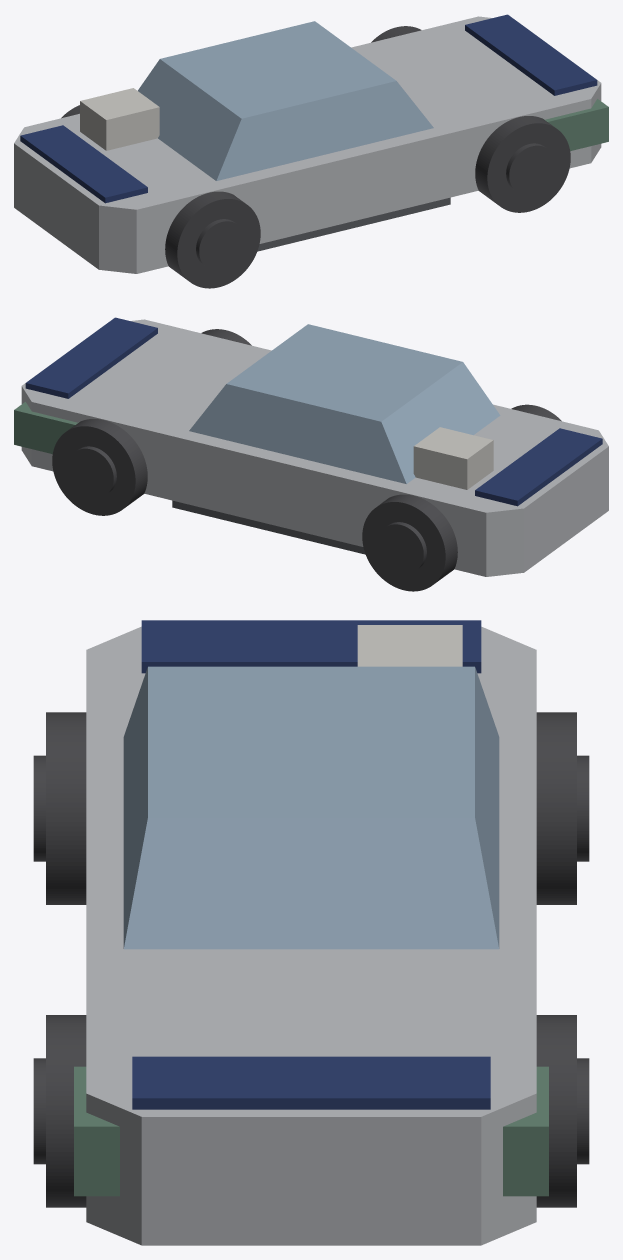
3 views of the same model, one above another, from view 1: azimuth 30°, elevation 25°; view 2: azimuth 150°, elevation 25°; view 3: azimuth 270°, elevation 25° (orthographic). The views are drawn at different scales.
Visible parts, largest first — view 1: chassis, cabin, wheel_rr, wheel_fr, solar_hood, solar_deck, module_01, sensor_module, battery_pack; view 2: chassis, cabin, wheel_rl, wheel_fl, solar_hood, solar_deck, module_01, control_module, battery_pack; view 3: chassis, cabin, solar_hood, solar_deck, wheel_rl, wheel_rr, wheel_fl, wheel_fr, module_01, control_module, sensor_module.
Part boxes in pixels (x1,y1,x2,y2): chassis: (14, 16, 601, 273); cabin: (138, 21, 433, 180); wheel_rr: (165, 191, 260, 288); wheel_fr: (475, 116, 570, 212); solar_hood: (465, 14, 597, 95); solar_deck: (20, 125, 147, 203); module_01: (80, 88, 159, 150); sensor_module: (543, 99, 608, 150); battery_pack: (257, 197, 450, 251); chassis: (21, 319, 608, 576); cabin: (189, 324, 500, 483); wheel_rl: (362, 494, 457, 591); wheel_fl: (52, 419, 147, 515); solar_hood: (25, 317, 157, 398); solar_deck: (475, 428, 602, 506); module_01: (413, 427, 493, 489); control_module: (14, 402, 79, 453); battery_pack: (172, 500, 365, 554); chassis: (86, 626, 536, 1245); cabin: (123, 666, 499, 949); solar_hood: (132, 1056, 490, 1109); solar_deck: (141, 620, 481, 673); wheel_rl: (536, 712, 589, 904); wheel_rr: (33, 712, 86, 904); wheel_fl: (536, 1015, 589, 1207); wheel_fr: (33, 1015, 86, 1207); module_01: (357, 625, 462, 666); control_module: (503, 1066, 548, 1196); sensor_module: (74, 1066, 119, 1196).
Bounding box in the file's own units: 9.4 × 2.47 × 4.5.
